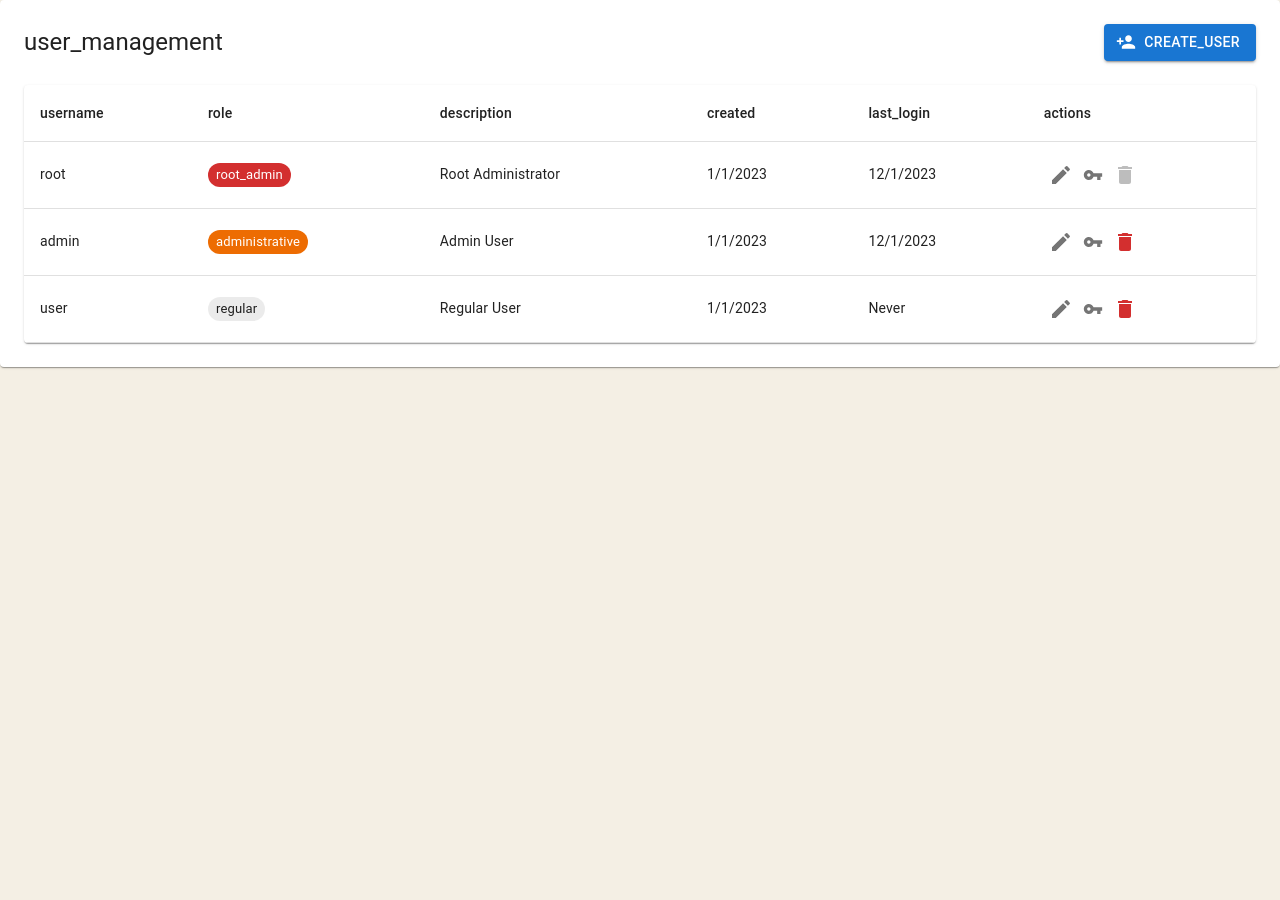
Scenario: UserManagement › should disable role dropdown when editing root admin user
expect the text "root" is shown: met, box [24,141,192,208]
# Find and click edit button for root user (first row)
Click the button named "edit_user" in the row of "root_admin": (1061, 174) [1044,158,1078,192]
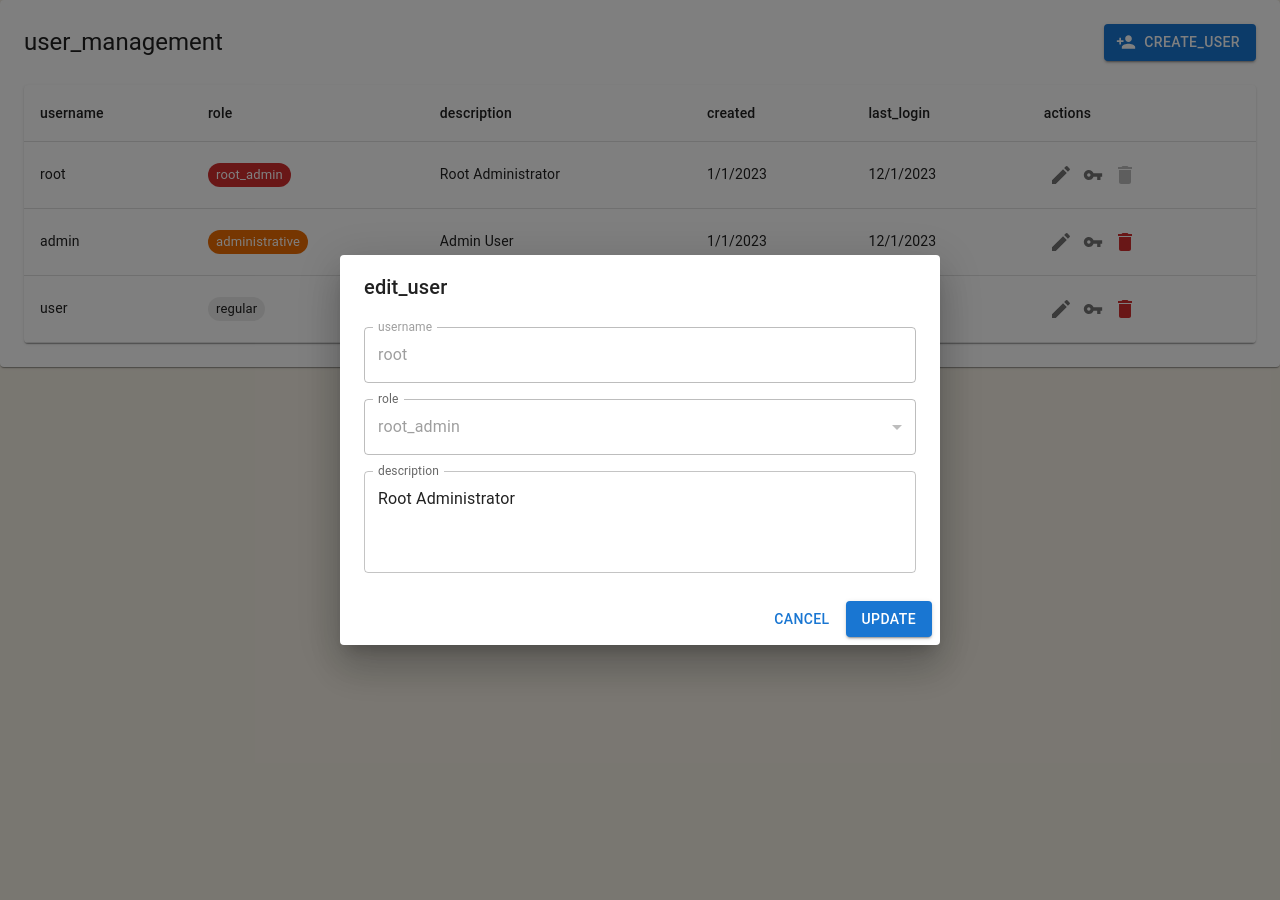
expect the heading "edit_user" is shown: met, box [364,275,447,299]
expect the element showing "root_admin" is disabled: met, box [364,399,916,455]
